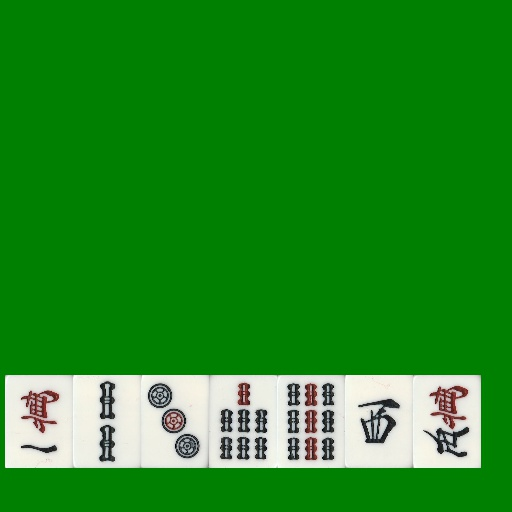1m: (5, 375, 73, 468)
2s: (73, 375, 141, 468)
3p: (141, 375, 209, 468)
5m: (413, 375, 481, 468)
7s: (209, 375, 277, 468)
9s: (277, 375, 345, 468)
west: (345, 375, 413, 468)
